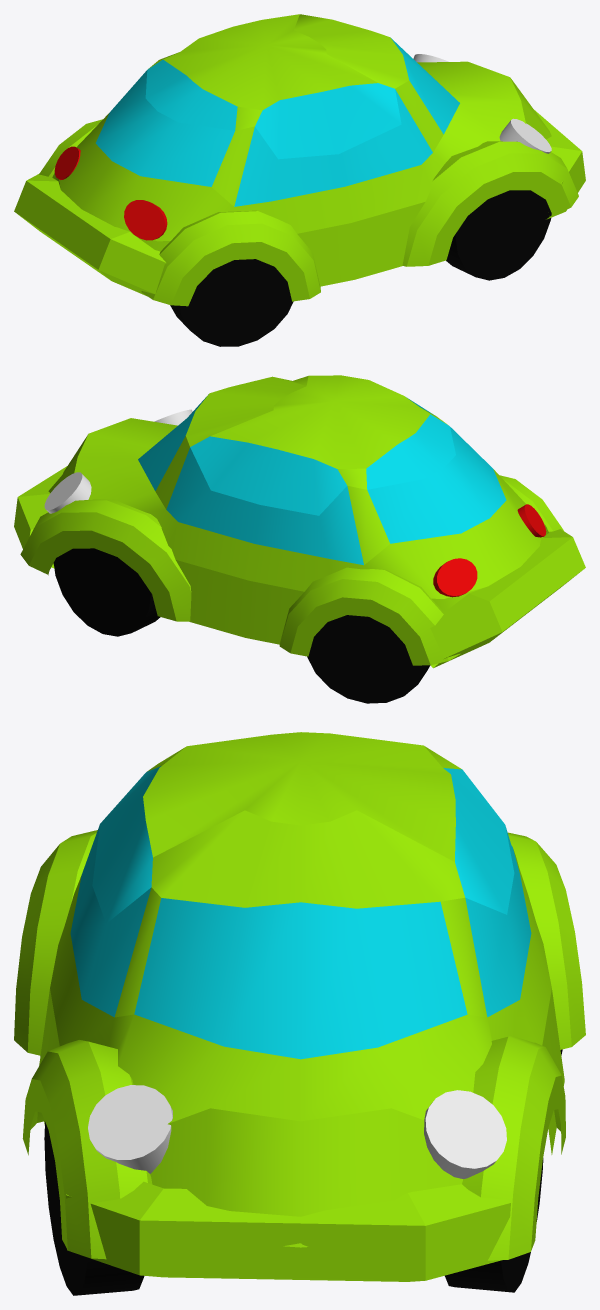
Rendered from green beetle.fbx.
The picture shows the model from 3 angles, top to bottom: view 1: azimuth 30°, elevation 25°; view 2: azimuth 150°, elevation 25°; view 3: azimuth 270°, elevation 25°; orthographic projection. The views are drawn at different scales.
Parts seen in each view (by area): view 1: pSphere4; view 2: pSphere4; view 3: pSphere4.
Boxes of the visible parts, box(x1,y1,x2,y2) form: pSphere4: box(14, 14, 585, 346); pSphere4: box(14, 375, 585, 703); pSphere4: box(14, 732, 585, 1295).
Bounding box in the file's own units: 27.72 × 12.09 × 16.32.
